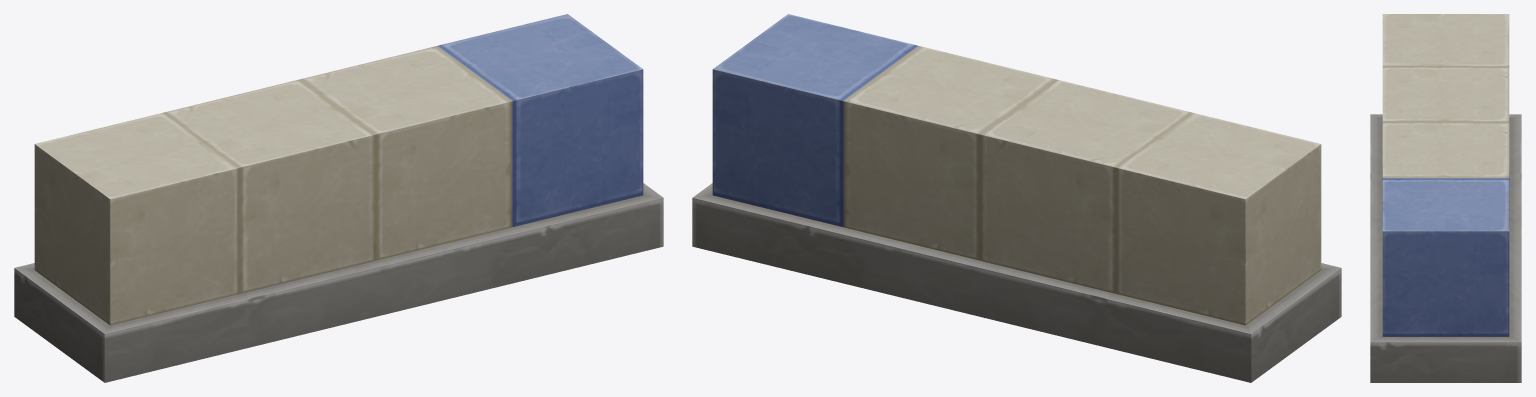
Rendered from sc_wjgc_001_008.FBX.
The picture shows the model from 3 angles, left to right: view 1: azimuth 30°, elevation 25°; view 2: azimuth 150°, elevation 25°; view 3: azimuth 270°, elevation 25°; orthographic projection. The views are drawn at different scales.
Visible parts, largest first — view 1: sc_wjgc_001_008; view 2: sc_wjgc_001_008; view 3: sc_wjgc_001_008.
Boxes of the visible parts, x1,y1,x2,y2 form: sc_wjgc_001_008: (14, 14, 663, 382); sc_wjgc_001_008: (692, 14, 1341, 382); sc_wjgc_001_008: (1370, 14, 1521, 382).
Size of the model in its own units: 8.39 by 2.51 by 2.35.
